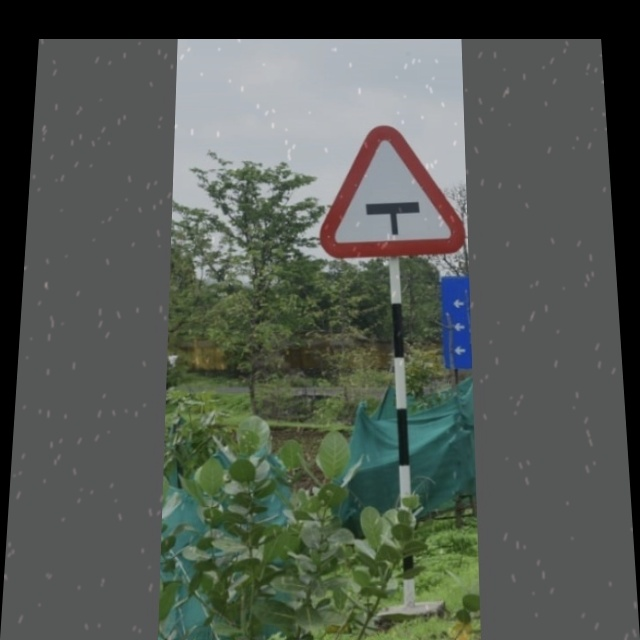T_Intersection: (327, 124, 459, 252)
